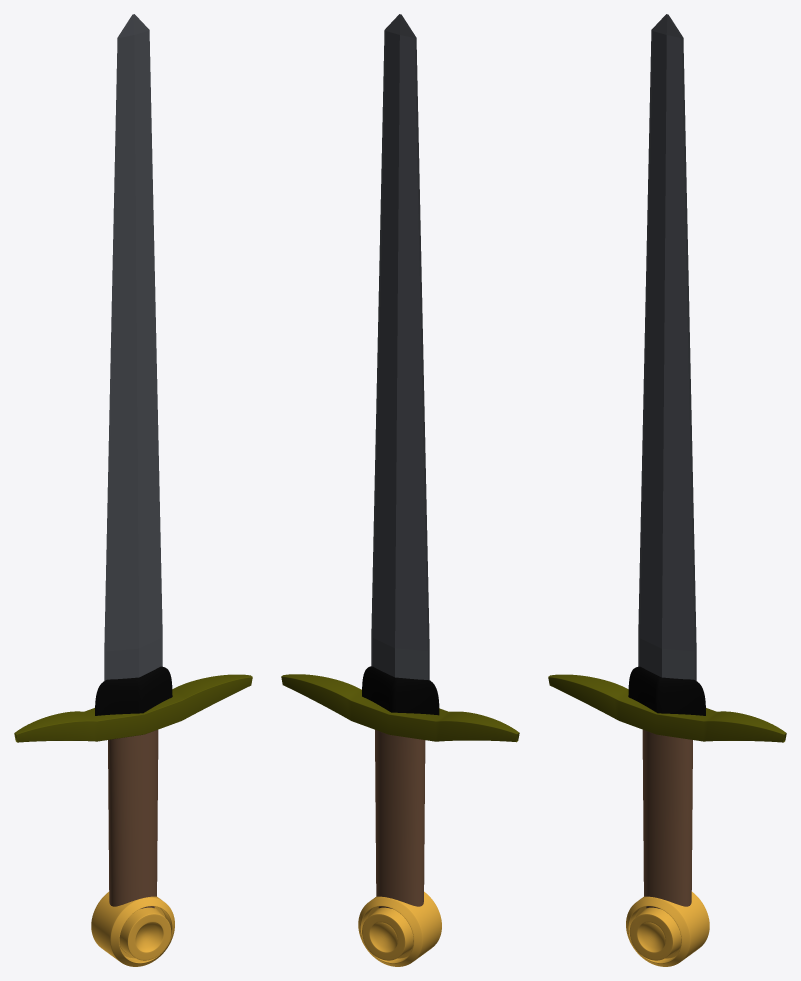
File: sword.fbx
The picture shows the model from 3 angles, left to right: view 1: azimuth 30°, elevation 25°; view 2: azimuth 150°, elevation 25°; view 3: azimuth 330°, elevation 25°; orthographic projection.
Visible parts, largest first — view 1: Cube.001, Cylinder.001, Cube, Cylinder, Cube.002; view 2: Cube.001, Cylinder.001, Cube, Cylinder, Cube.002; view 3: Cube.001, Cylinder.001, Cube, Cylinder, Cube.002.
Boxes of the visible parts, bbox=[...] form: Cube.001: bbox=[104, 14, 162, 680]; Cylinder.001: bbox=[108, 730, 158, 908]; Cube: bbox=[14, 674, 252, 742]; Cylinder: bbox=[91, 891, 174, 966]; Cube.002: bbox=[95, 666, 172, 715]; Cube.001: bbox=[371, 14, 429, 680]; Cylinder.001: bbox=[375, 730, 425, 908]; Cube: bbox=[281, 674, 519, 742]; Cylinder: bbox=[358, 891, 441, 966]; Cube.002: bbox=[362, 666, 439, 715]; Cube.001: bbox=[638, 14, 696, 680]; Cylinder.001: bbox=[642, 730, 692, 908]; Cube: bbox=[548, 674, 786, 742]; Cylinder: bbox=[626, 891, 709, 966]; Cube.002: bbox=[628, 666, 705, 715].
Bounding box in the file's own units: 727 × 2775 × 176.
